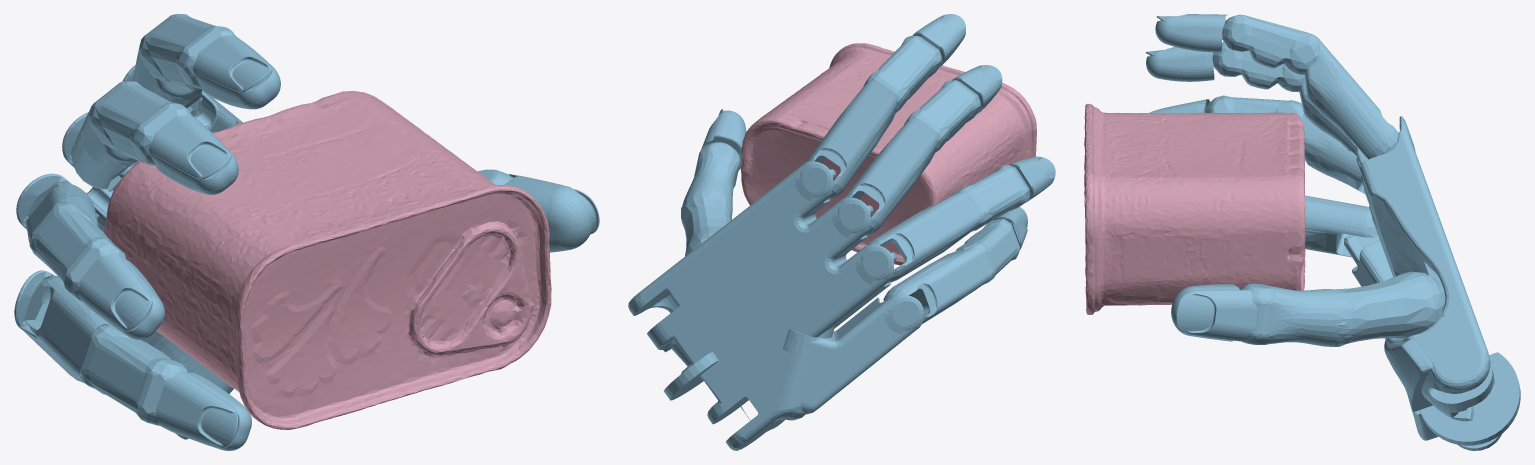
3 views of the same model, side by side, from view 1: azimuth 30°, elevation 25°; view 2: azimuth 150°, elevation 25°; view 3: azimuth 270°, elevation 25° (orthographic). The views are drawn at different scales.
Visible parts, largest first — view 1: potted_meat_can.stl, world; view 2: world, potted_meat_can.stl; view 3: world, potted_meat_can.stl.
Boxes of the visible parts, x1=… form: potted_meat_can.stl: x1=104, y1=91, x2=551, y2=429; world: x1=14, y1=14, x2=599, y2=450; world: x1=628, y1=14, x2=1055, y2=450; potted_meat_can.stl: x1=740, y1=43, x2=1036, y2=265; world: x1=1145, y1=14, x2=1520, y2=450; potted_meat_can.stl: x1=1084, y1=103, x2=1305, y2=314.
Bounding box in the file's own units: 0.1627 × 0.1652 × 0.1649.
